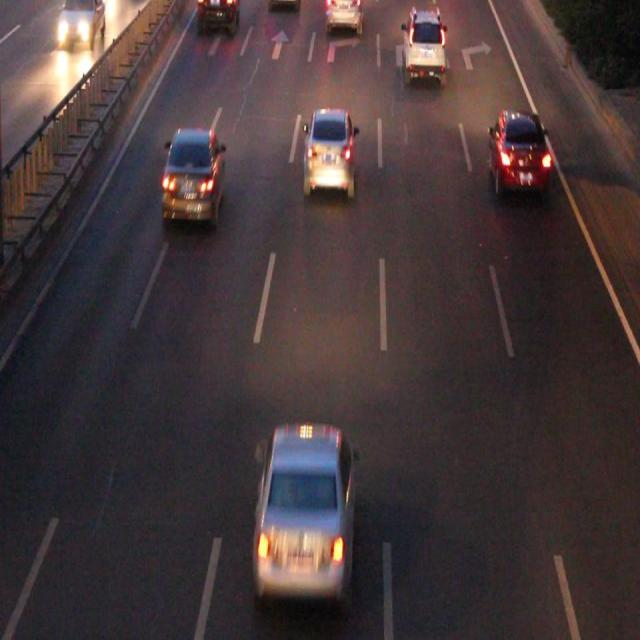car: (256, 428, 353, 588), (163, 129, 223, 217), (489, 112, 546, 188), (304, 114, 352, 190), (402, 11, 444, 78), (198, 1, 238, 32), (326, 1, 362, 29)
